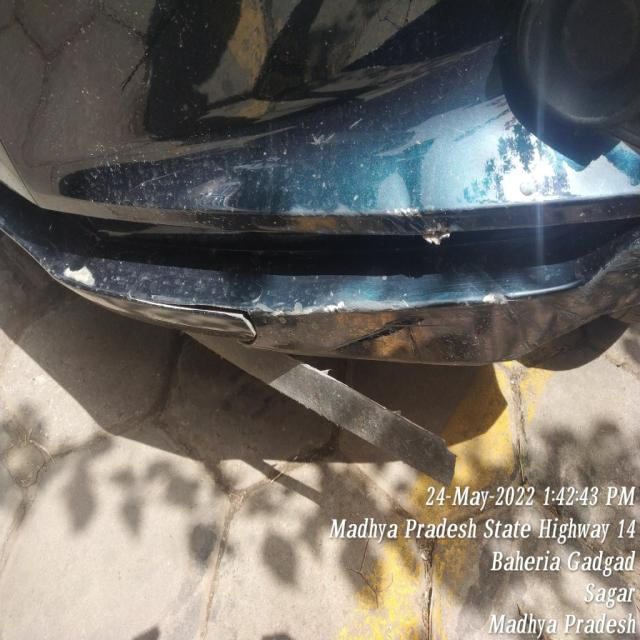damage: (451, 291, 546, 360), (206, 290, 269, 351), (389, 208, 461, 250), (60, 252, 115, 300)
